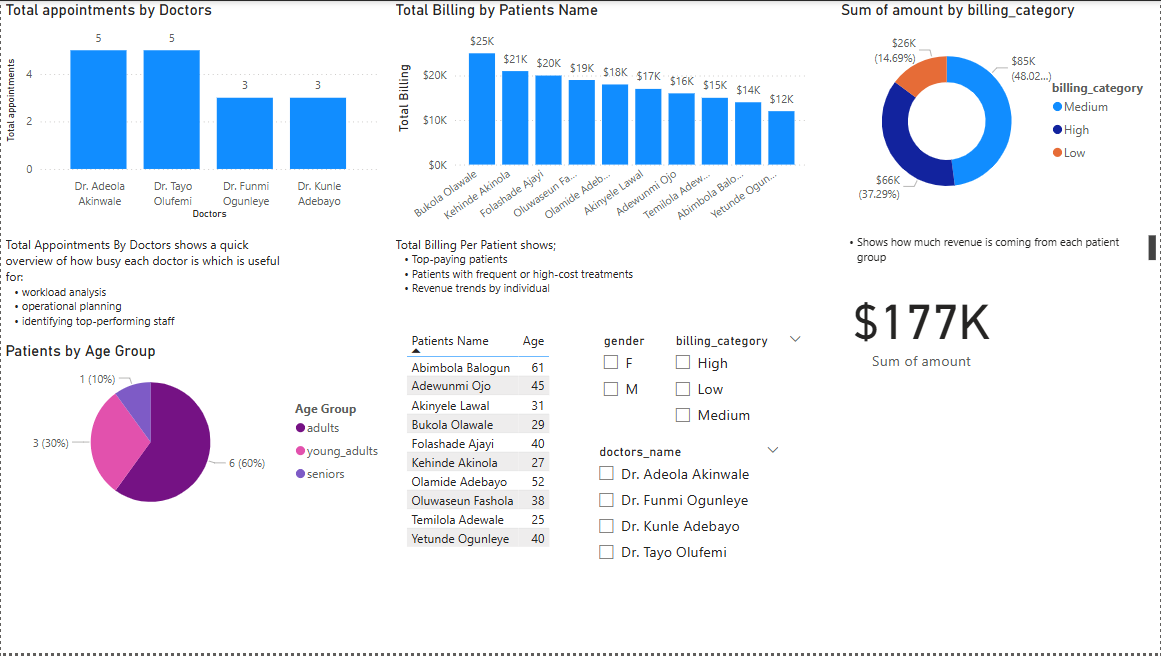

The dashboard page shown, as its layout file describes it:
{"tool":"powerbi","page":{"name":"Page 1","canvas":[1280,720],"ordinal":0},"visuals":[{"type":"tableEx","fields":{"Values":["Patients_Data.name","Patients_Data.age"]},"box":[442.3,359.5,197.1,273.3],"z":0},{"type":"columnChart","fields":{"Category":["Doctors_Data.doctors_name"],"Y":["CountNonNull(Appointments.appointment_id)"]},"box":[0,0,420.7,245.2],"z":1000},{"type":"textbox","box":[0,253.4,313.1,134.2],"z":2000},{"type":"columnChart","fields":{"Category":["Patients_Data.name"],"Y":["Sum(Billing.amount)"]},"box":[430.7,0,465.5,273.3],"z":3000},{"type":"textbox","box":[430.7,253.4,329.6,79.5],"z":4000},{"type":"slicer","fields":{"Values":["Patients_Data.gender"]},"box":[652.7,361.1,107.7,87.8],"z":5000},{"type":"pieChart","fields":{"Category":["Patients_Data.Age Group"],"Y":["CountNonNull(Patients_Data.patients_id)"]},"box":[0,376,430.7,202.1],"z":6000},{"type":"card","fields":{"Values":["Sum(Billing.amount)"]},"box":[922.7,306.4,187.2,102.7],"z":7002},{"type":"slicer","fields":{"Values":["Billing.billing_category"]},"box":[758.7,361.1,164,122.6],"z":7003},{"type":"donutChart","fields":{"Category":["Billing.billing_category"],"Y":["Sum(Billing.amount)"]},"box":[922.7,0,357.8,245.2],"z":7004},{"type":"textbox","box":[922.7,253.4,357.8,53],"z":7005},{"type":"slicer","fields":{"Values":["Doctors_Data.doctors_name"]},"box":[647.7,483.7,223.6,149.1],"z":7006}]}

Visuals, with their boxes in screenshot pixels (x1, y1, x2, y2), scaled from the page's 1280x720 canvas onto the 1161x657 screenshot:
tableEx - Patients_Data.name x Patients_Data.age: (401,328,580,577)
columnChart - Doctors_Data.doctors_name x CountNonNull(Appointments.appointment_id): (0,0,382,224)
textbox: (0,231,284,354)
columnChart - Patients_Data.name x Sum(Billing.amount): (391,0,813,249)
textbox: (391,231,690,304)
slicer - Patients_Data.gender: (592,330,690,410)
pieChart - Patients_Data.Age Group x CountNonNull(Patients_Data.patients_id): (0,343,391,528)
card - Sum(Billing.amount): (837,280,1007,373)
slicer - Billing.billing_category: (688,330,837,441)
donutChart - Billing.billing_category x Sum(Billing.amount): (837,0,1160,224)
textbox: (837,231,1160,280)
slicer - Doctors_Data.doctors_name: (587,441,790,577)
